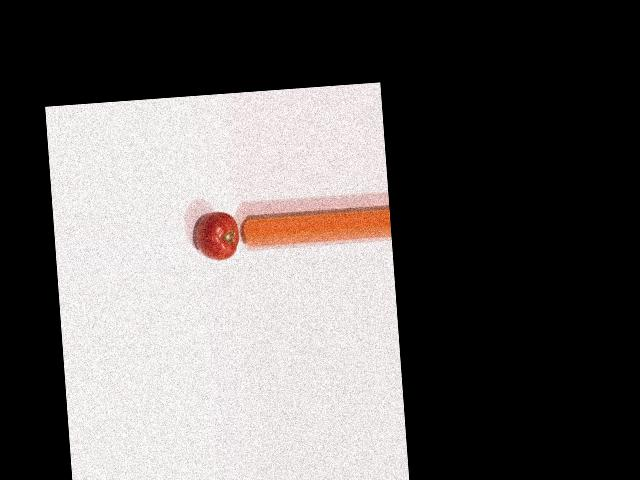tomato: (194, 211, 240, 262)
